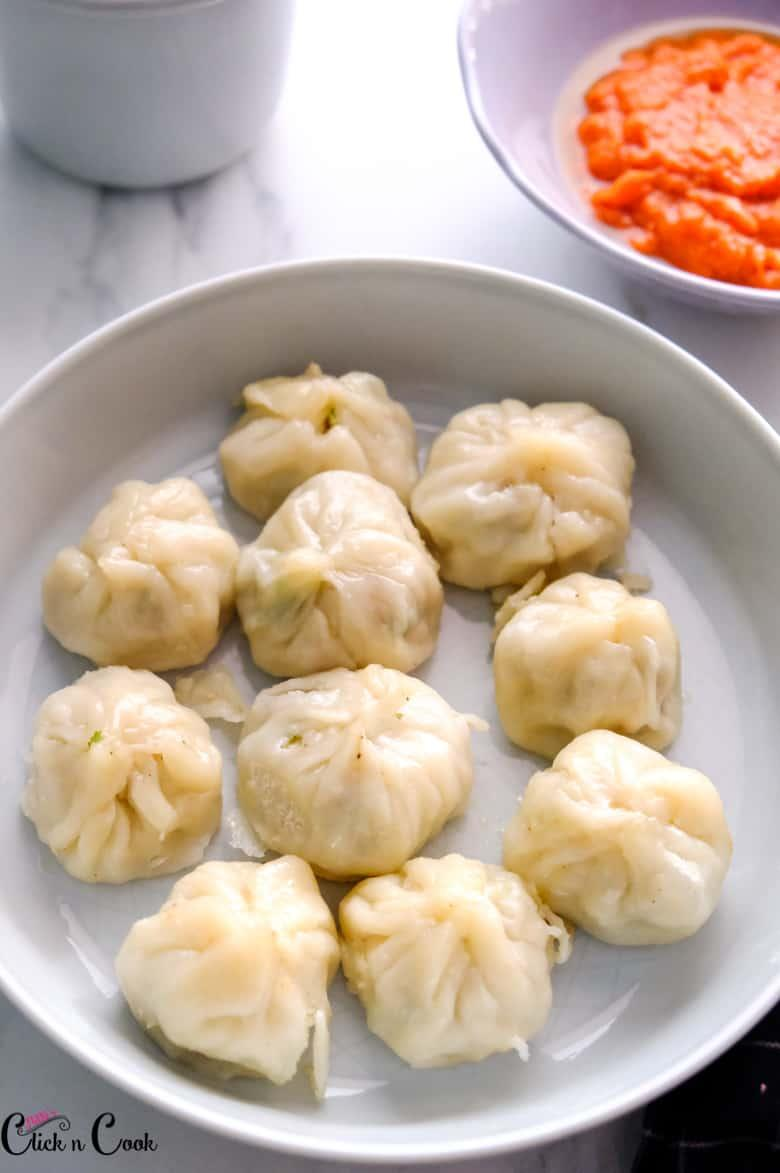momos: (117, 855, 339, 1097), (236, 664, 483, 879), (339, 855, 570, 1068), (504, 731, 733, 945), (23, 667, 222, 882), (410, 399, 635, 589), (236, 470, 442, 677), (44, 481, 238, 670), (493, 573, 683, 757), (220, 362, 419, 519), (321, 410, 332, 430), (312, 410, 316, 416)
